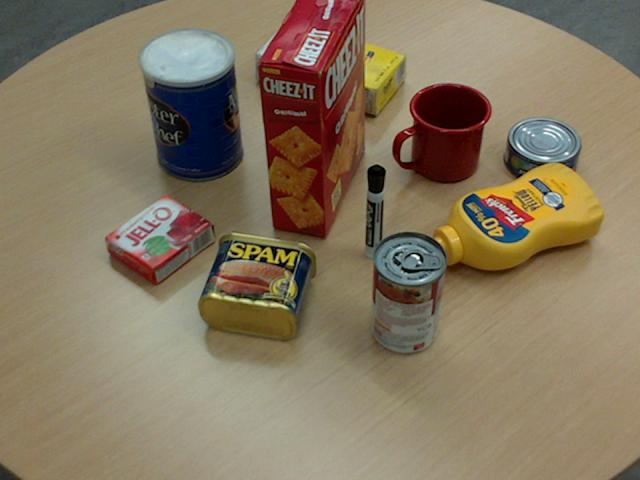cracker_box: (256, 0, 366, 237)
gelatin_box: (104, 193, 213, 283)
large_marker: (366, 165, 385, 259)
master_chef_can: (139, 28, 242, 181)
mug: (393, 82, 491, 181)
mustard_bottle: (421, 162, 602, 270)
potted_meat_can: (197, 231, 315, 338)
sugar_box: (254, 21, 406, 114)
tomato_soup_can: (370, 230, 446, 353)
tuna_fish_can: (503, 117, 579, 183)
